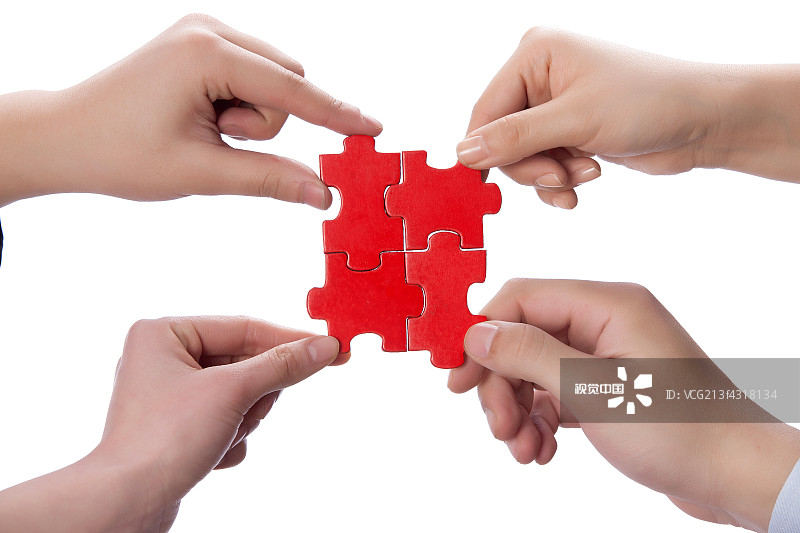no-phone: (431, 267, 793, 533), (19, 1, 398, 212), (54, 299, 364, 533), (439, 13, 749, 235)
